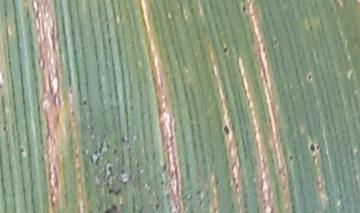tarspot: (107, 187, 122, 197), (160, 161, 169, 174), (222, 124, 230, 138), (107, 165, 115, 178), (308, 142, 315, 155), (94, 155, 101, 166), (137, 205, 146, 213), (98, 142, 104, 154), (110, 203, 118, 211), (222, 46, 229, 55), (18, 146, 25, 155), (154, 203, 161, 212), (197, 200, 204, 209), (315, 141, 320, 153), (120, 135, 126, 145), (88, 153, 94, 163), (287, 154, 294, 162), (241, 5, 247, 14), (308, 22, 313, 32), (1, 125, 8, 132), (112, 148, 119, 155), (79, 149, 86, 156), (313, 1, 320, 8), (105, 143, 111, 151), (273, 38, 278, 47), (189, 7, 195, 14), (108, 103, 114, 110), (195, 189, 201, 196), (120, 167, 125, 175), (160, 179, 165, 187), (165, 192, 170, 200), (82, 99, 87, 106), (307, 73, 312, 79), (104, 209, 110, 213), (332, 1, 338, 3)
